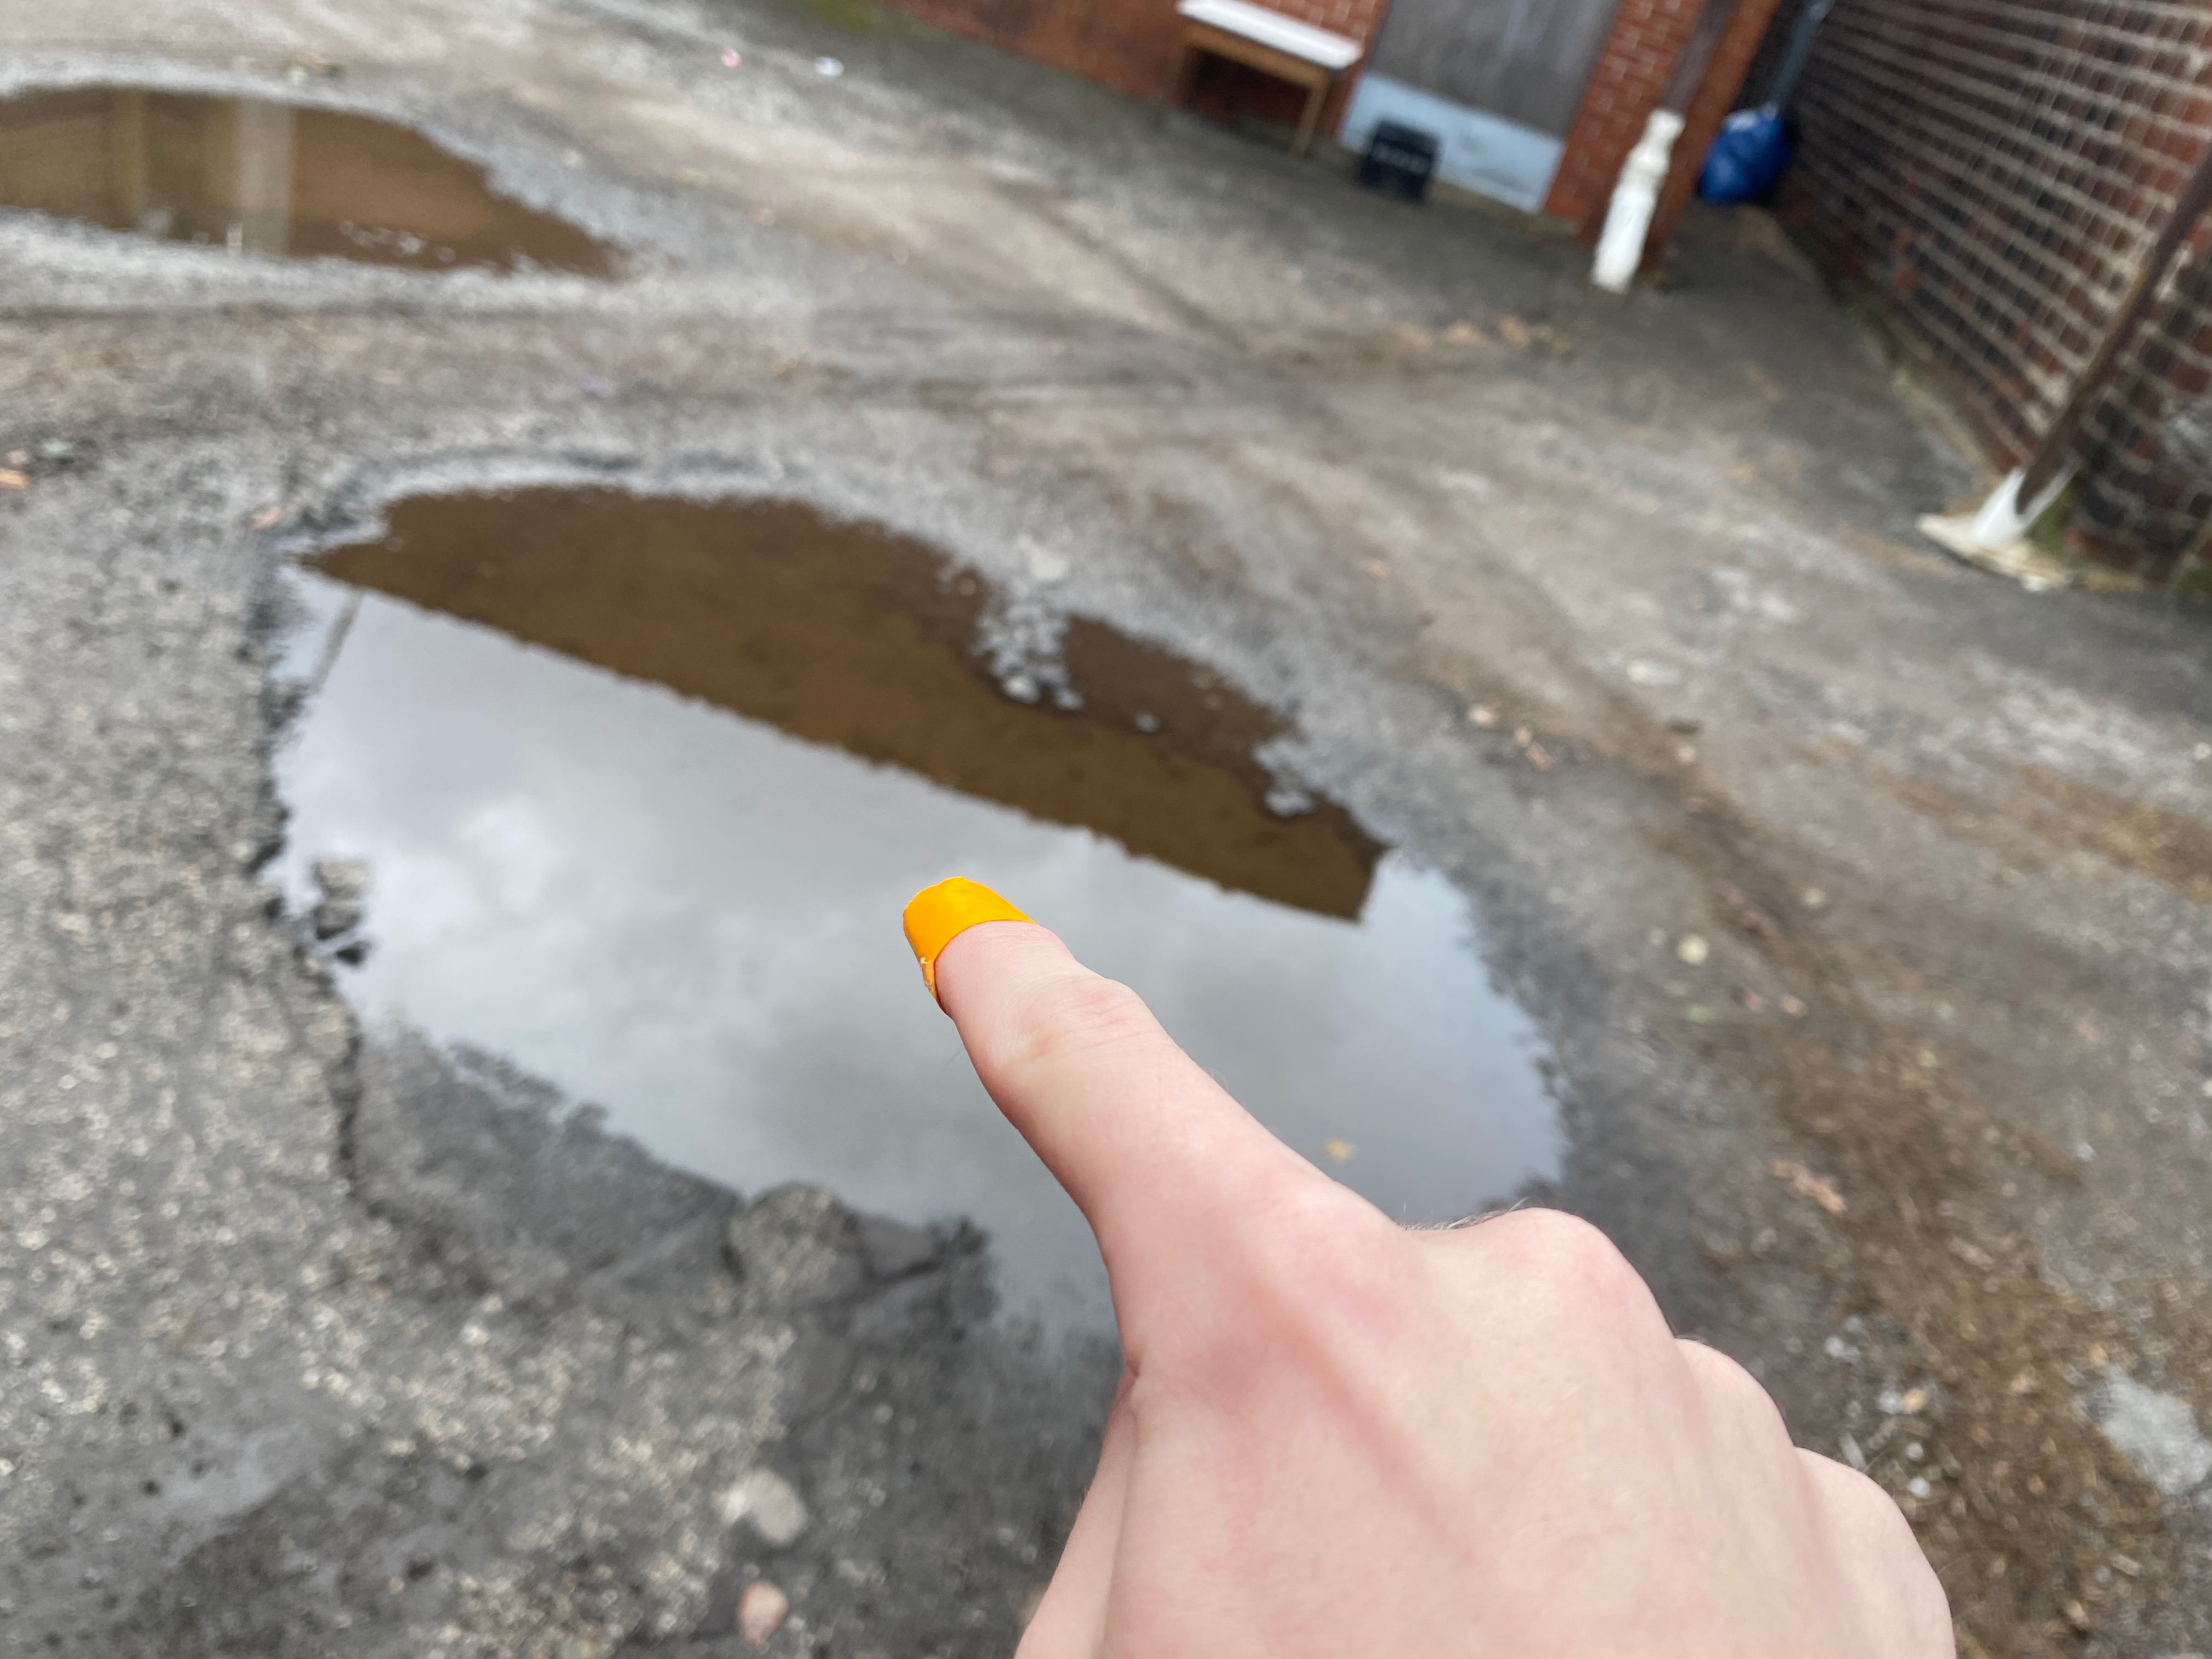fingertip: (867, 849, 1092, 1033)
